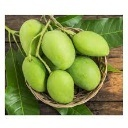mango: (42, 30, 76, 70), (22, 54, 49, 92)
